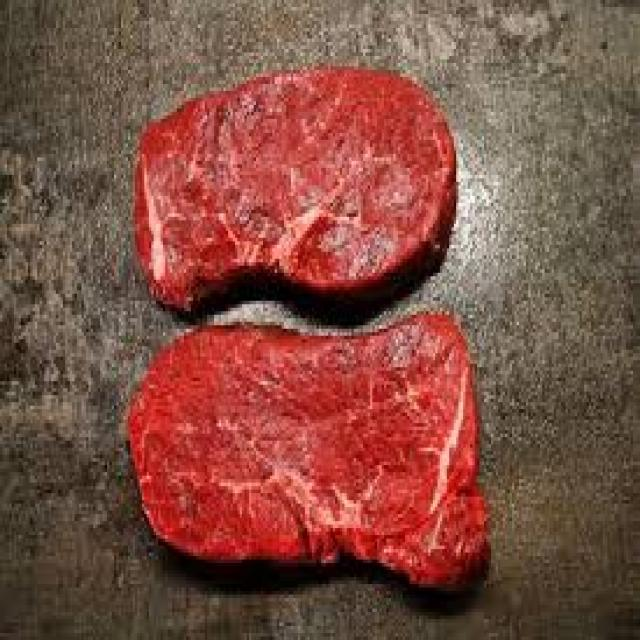beef: (130, 315, 491, 589), (135, 65, 456, 312)
